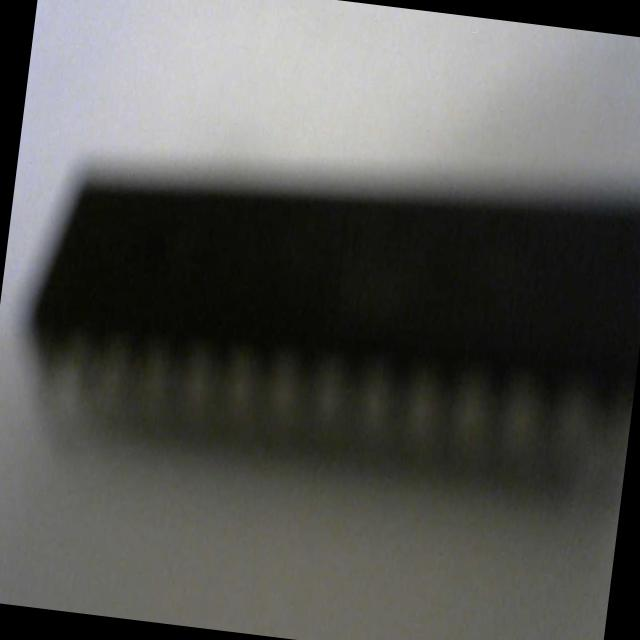atmega: (10, 123, 640, 521)
